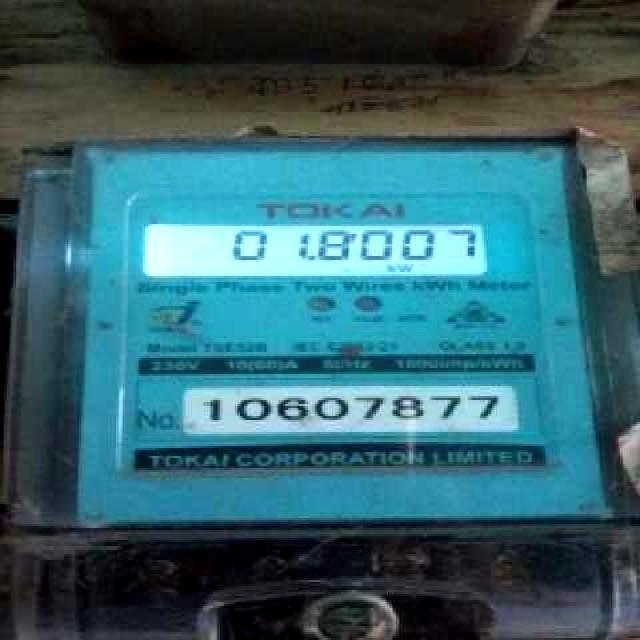LCD: (135, 216, 497, 286)
